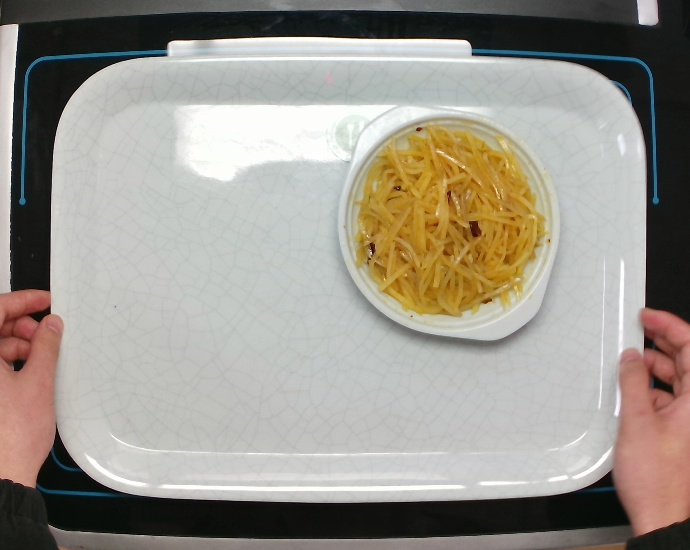JYsf-Shuang_Er_Pan: (335, 101, 562, 342)
